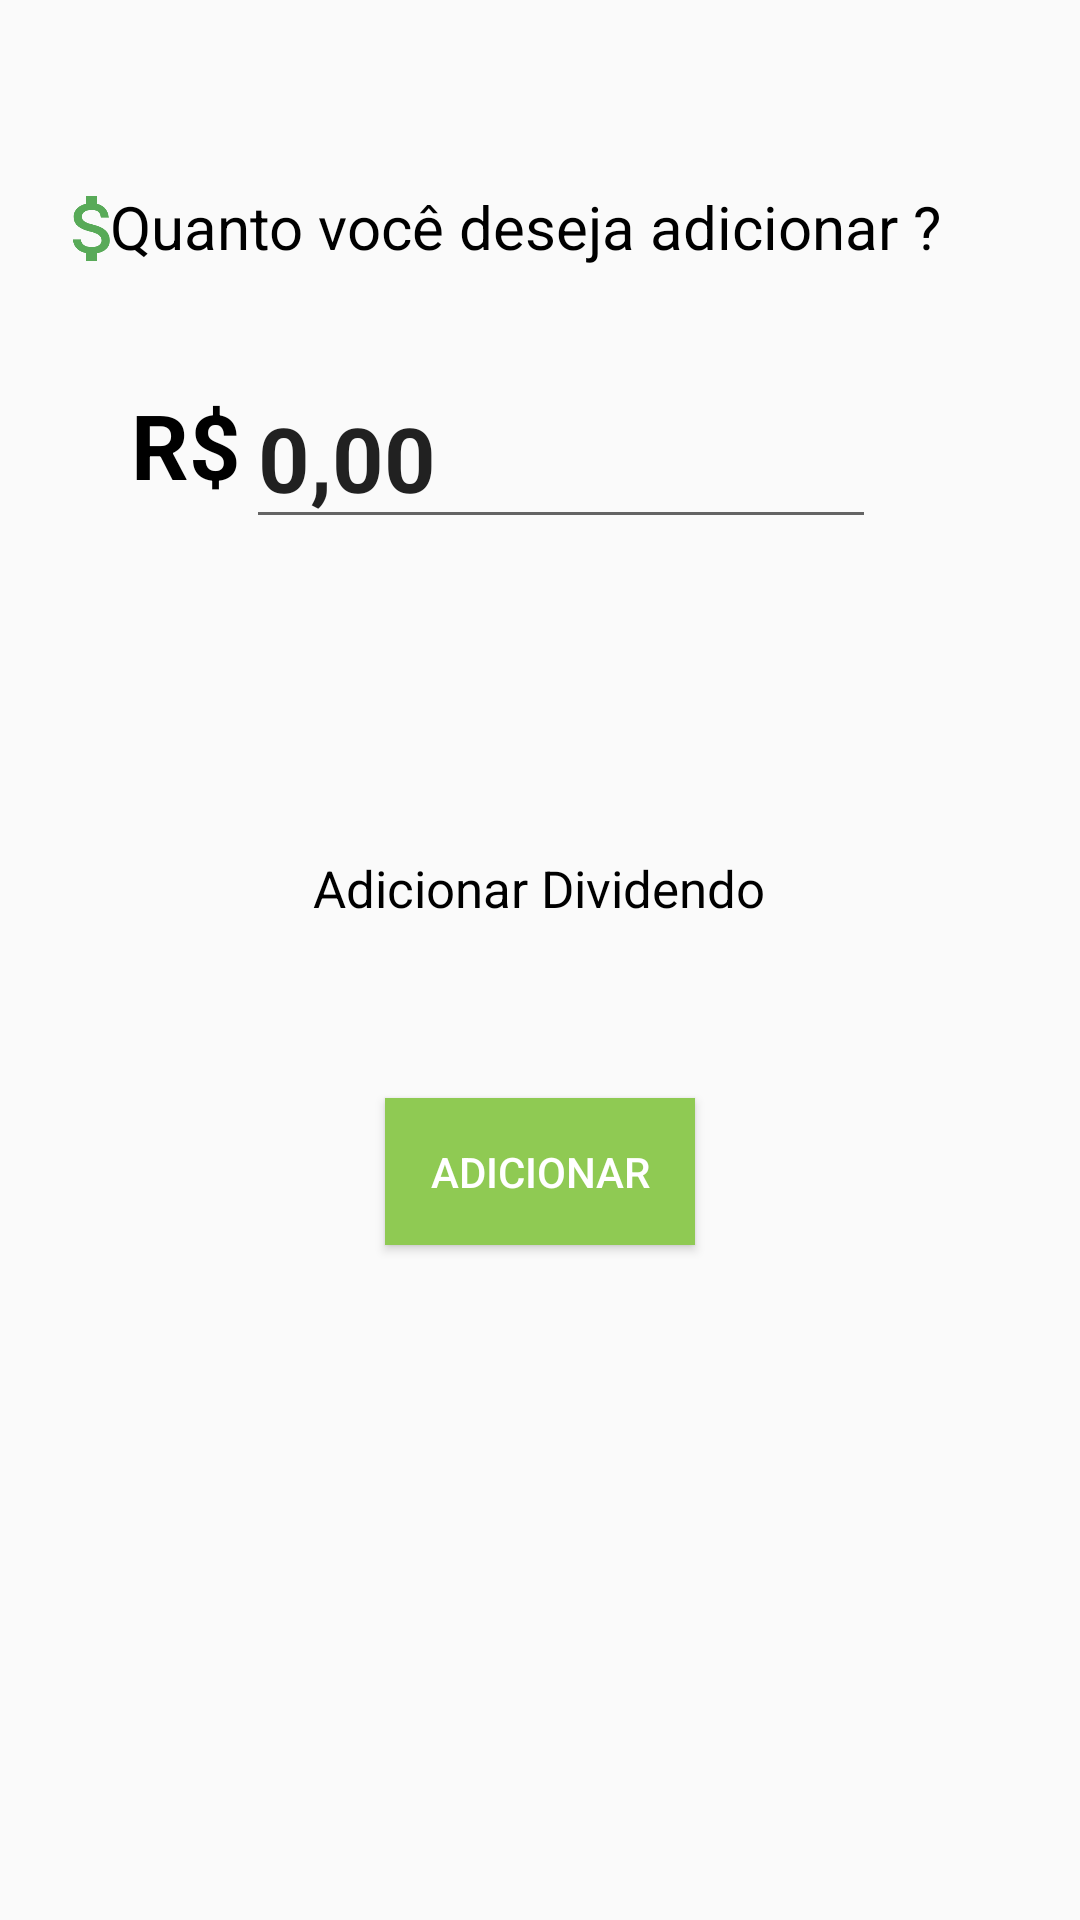

Icon bounding boxes for this 1080*1920 phone screenshot, format (x1, y1, x2, y2):
attach money: (73, 196, 146, 261)
